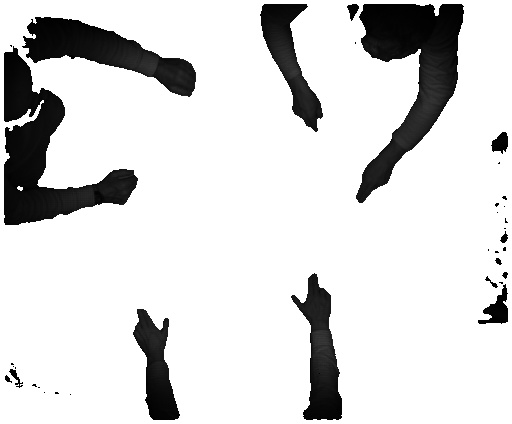fist: (98, 168, 143, 207), (161, 58, 199, 103)
hand: (288, 272, 335, 327), (128, 304, 175, 359), (352, 154, 394, 207), (291, 87, 327, 135)
